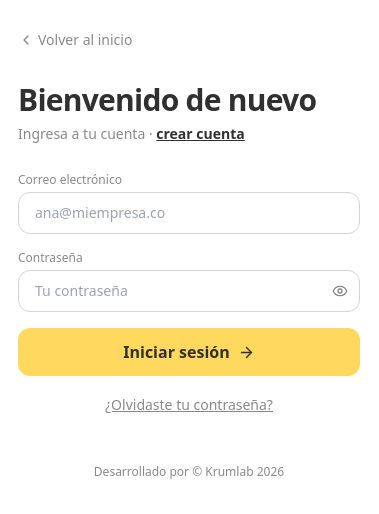
Scenario: Login › cuando el servidor sí rechaza las credenciales, dice lo que el servidor dijo
Type "ana@empresa.co" into the field labelled "Correo electrónico". click: (189, 213)
box: [18,192,360,234]
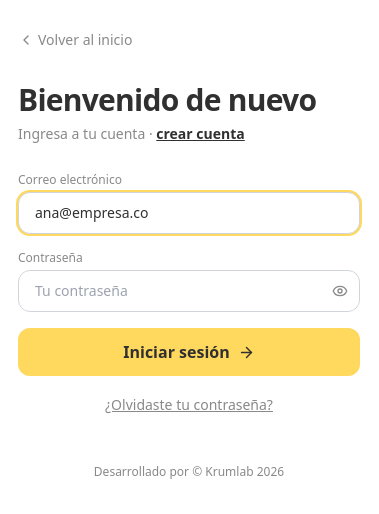
Type "lo-que-sea" into the password field labelled "Contraseña". click: (189, 291)
box: [18,270,360,312]
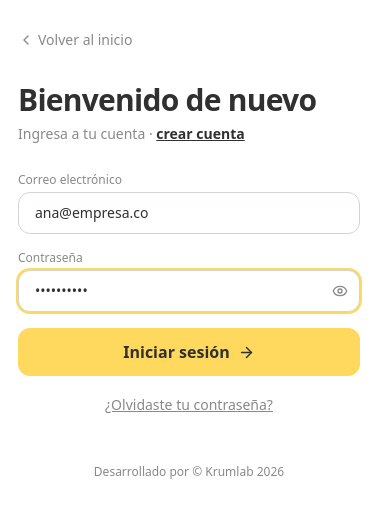
Click the button "Iniciar sesión". click: (189, 352)
box: [18,328,360,376]
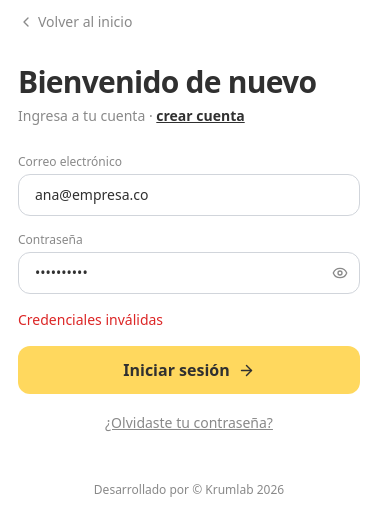
Expected: the text "Credenciales inválidas" is shown, [18,310,163,329]
